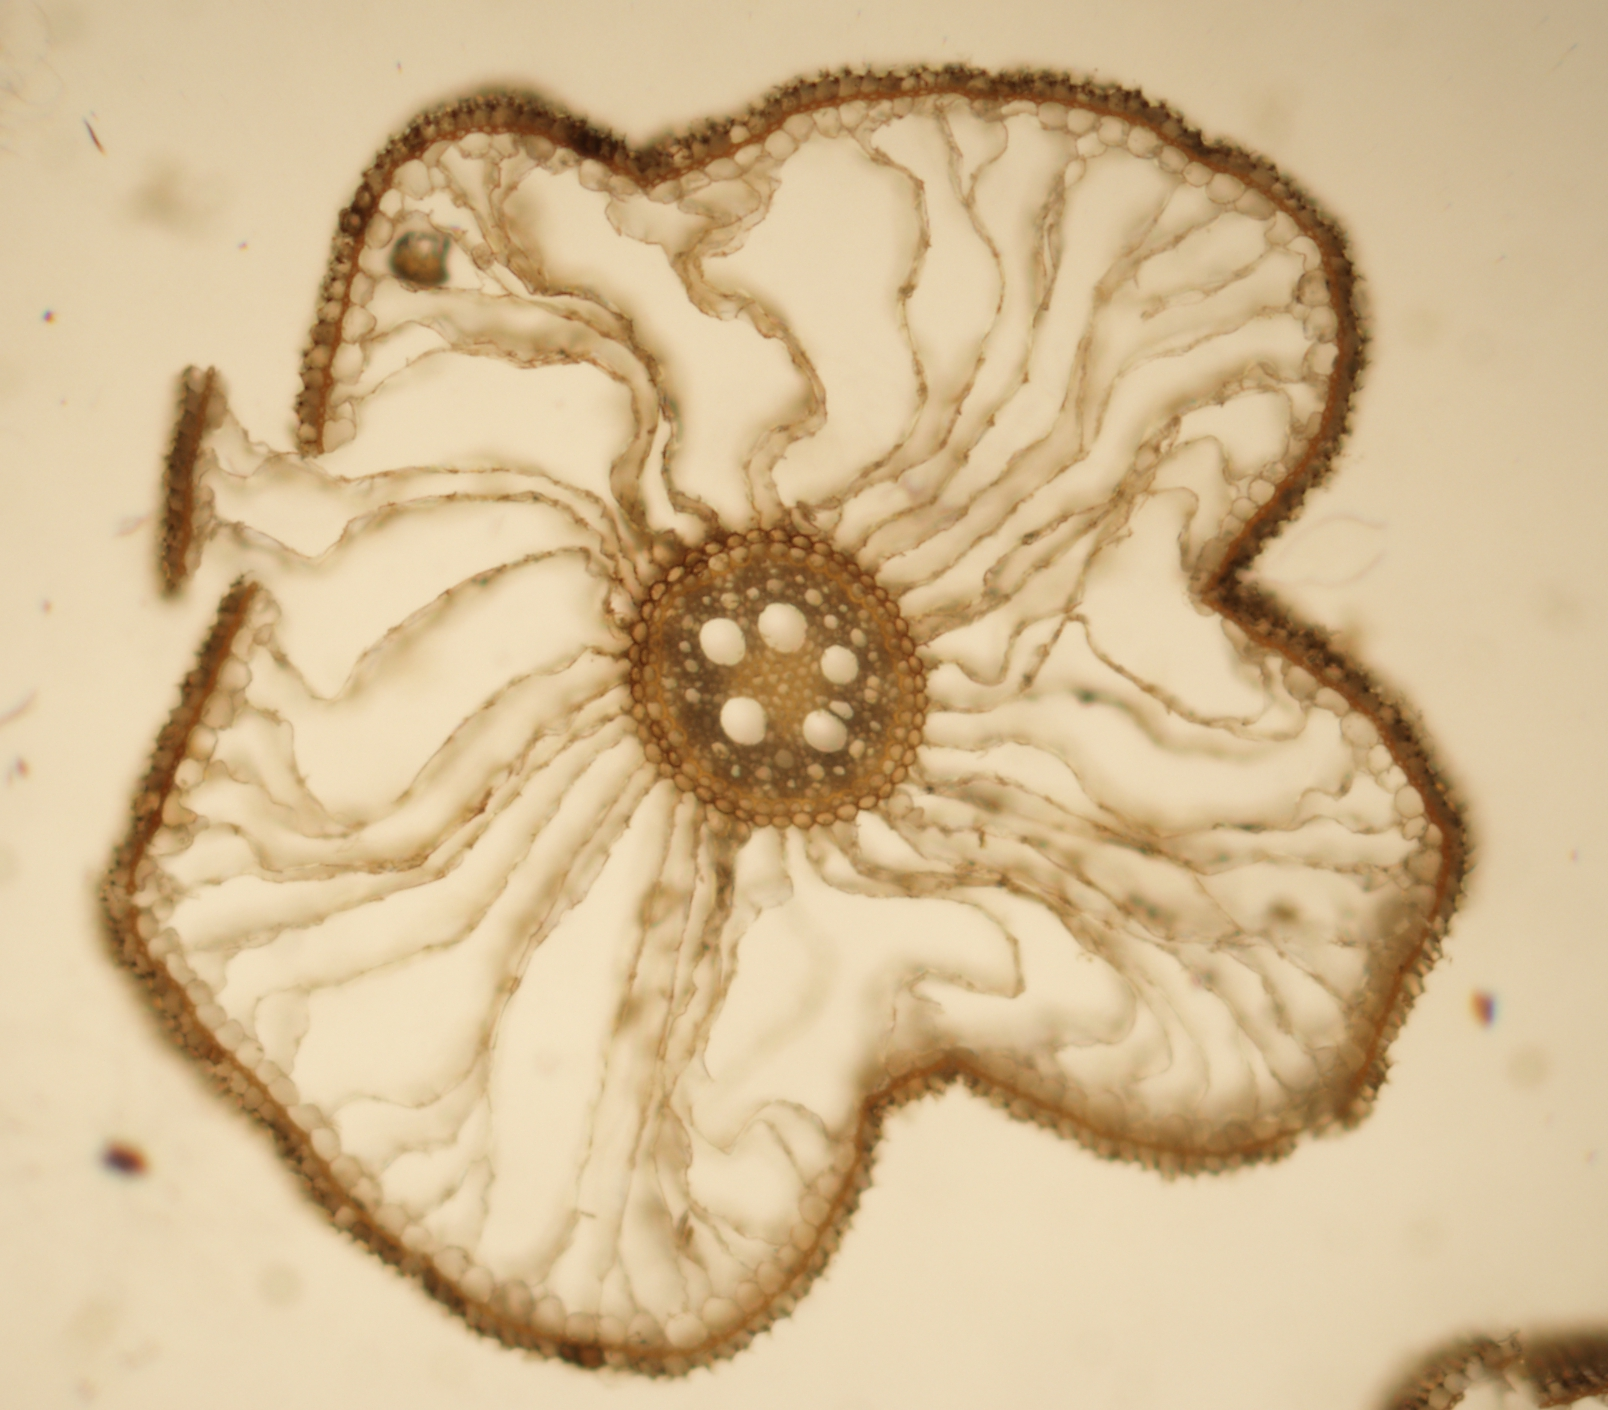lm: (758, 602, 807, 652), (699, 618, 747, 665), (721, 697, 767, 744), (803, 708, 848, 752), (820, 644, 857, 684)
